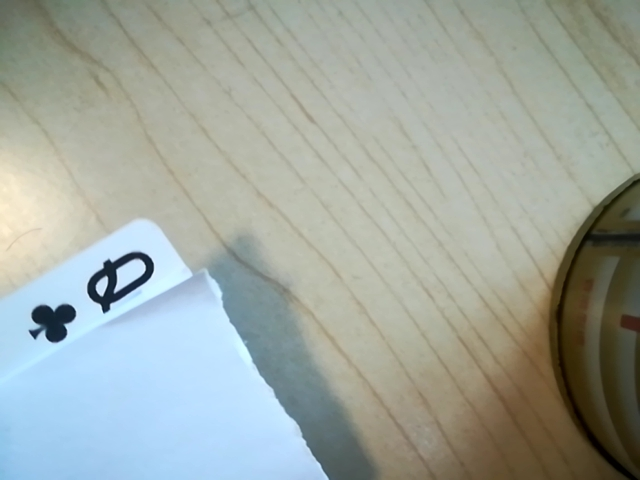mh q: (23, 244, 173, 347)
